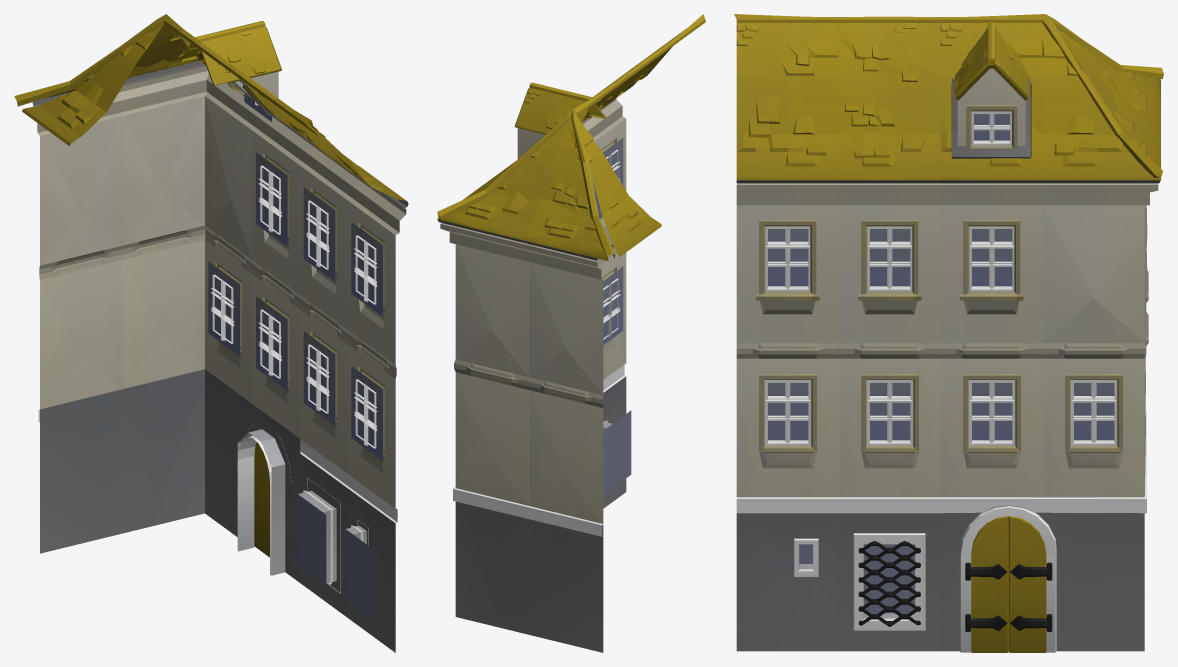
File: building_03.fbx
3 views of the same model, side by side, from view 1: azimuth 30°, elevation 25°; view 2: azimuth 150°, elevation 25°; view 3: azimuth 270°, elevation 25° (orthographic). The views are drawn at different scales.
Parts seen in each view (by area): view 1: group145_polySurface495, polySurface849, polySurface514, polySurface842, polySurface518, polySurface510, polySurface519, polySurface496, polySurface515, polySurface851, pPlane50, pPlane51 (+13 smaller); view 2: group145_polySurface495, polySurface849, polySurface518, polySurface519, polySurface842, polySurface510, polySurface850, polySurface851, pPlane48, pPlane49, polySurface854, polySurface520; view 3: group145_polySurface495, polySurface518, polySurface514, polySurface519, polySurface840, polySurface517, polySurface515, polySurface520, polySurface513, polySurface852, pCylinder42, polySurface510 (+19 smaller).
Boxes of the visible parts, left/top/right/bottom form: group145_polySurface495: left=32, top=61, right=408, bottom=652; polySurface849: left=40, top=369, right=204, bottom=553; polySurface514: left=205, top=369, right=300, bottom=582; polySurface842: left=22, top=24, right=163, bottom=145; polySurface518: left=43, top=24, right=407, bottom=202; polySurface510: left=180, top=21, right=280, bottom=85; polySurface519: left=14, top=14, right=312, bottom=127; polySurface496: left=294, top=492, right=326, bottom=586; polySurface515: left=237, top=421, right=291, bottom=575; polySurface851: left=342, top=526, right=373, bottom=621; pPlane50: left=303, top=331, right=335, bottom=425; pPlane51: left=303, top=187, right=335, bottom=281; group145_polySurface495: left=437, top=98, right=626, bottom=523; polySurface849: left=455, top=501, right=603, bottom=652; polySurface518: left=437, top=46, right=672, bottom=260; polySurface519: left=437, top=14, right=705, bottom=259; polySurface842: left=577, top=117, right=661, bottom=256; polySurface510: left=515, top=82, right=605, bottom=133; polySurface850: left=453, top=488, right=602, bottom=536; polySurface851: left=603, top=410, right=631, bottom=494; pPlane48: left=603, top=266, right=623, bottom=344; pPlane49: left=594, top=138, right=623, bottom=218; polySurface854: left=603, top=278, right=620, bottom=339; polySurface520: left=517, top=128, right=544, bottom=159; group145_polySurface495: left=736, top=180, right=1160, bottom=651; polySurface518: left=736, top=23, right=1160, bottom=180; polySurface514: left=940, top=497, right=1144, bottom=651; polySurface519: left=734, top=14, right=1163, bottom=177; polySurface840: left=1008, top=516, right=1046, bottom=652; polySurface517: left=971, top=516, right=1008, bottom=652; polySurface515: left=959, top=506, right=1056, bottom=652; polySurface520: left=957, top=68, right=1025, bottom=148; polySurface513: left=940, top=497, right=1146, bottom=513; polySurface852: left=853, top=533, right=925, bottom=630; pCylinder42: left=858, top=541, right=920, bottom=626; polySurface510: left=954, top=22, right=1028, bottom=97.
Bounding box in the file's own units: 714 × 1924 × 1265.
1 material, 1 textured.
